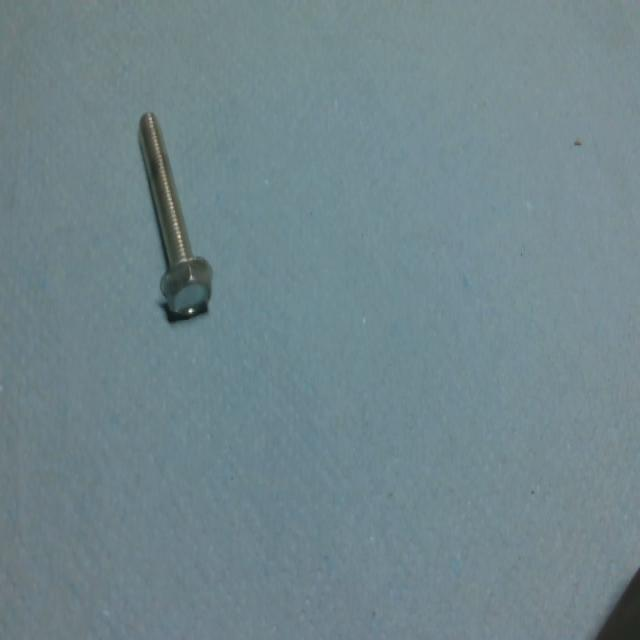Bolt: (139, 113, 214, 319)
